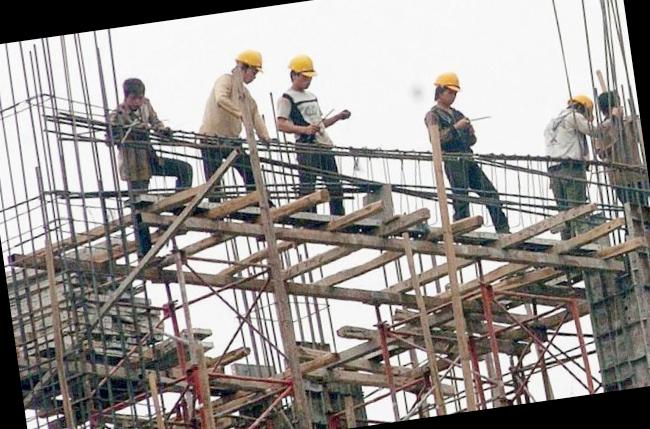helmet: (281, 48, 326, 83), (228, 45, 266, 76), (429, 64, 465, 96)
person: (417, 55, 514, 234), (272, 50, 361, 224), (194, 40, 282, 190), (110, 68, 180, 220), (532, 88, 600, 220)
